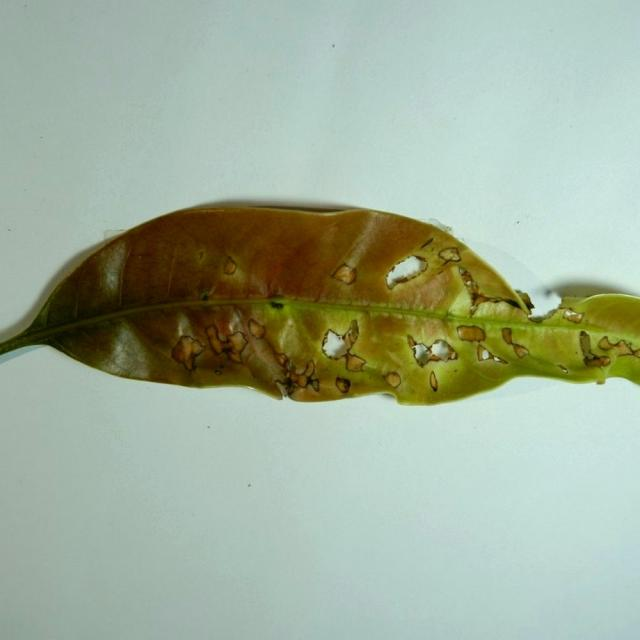Anthracnose: (384, 243, 465, 297), (459, 267, 527, 318), (404, 331, 458, 388), (317, 321, 368, 369), (457, 324, 510, 364), (274, 351, 318, 395), (204, 323, 249, 364), (170, 334, 205, 374), (578, 331, 609, 368), (604, 338, 637, 358), (329, 263, 357, 286), (526, 306, 563, 323), (428, 340, 456, 362), (455, 324, 486, 343), (437, 246, 462, 266), (345, 318, 360, 345), (247, 318, 266, 339), (562, 309, 585, 324), (274, 378, 291, 398), (384, 371, 401, 389), (222, 256, 237, 276), (273, 351, 289, 368)
Mango: (0, 200, 639, 408)
